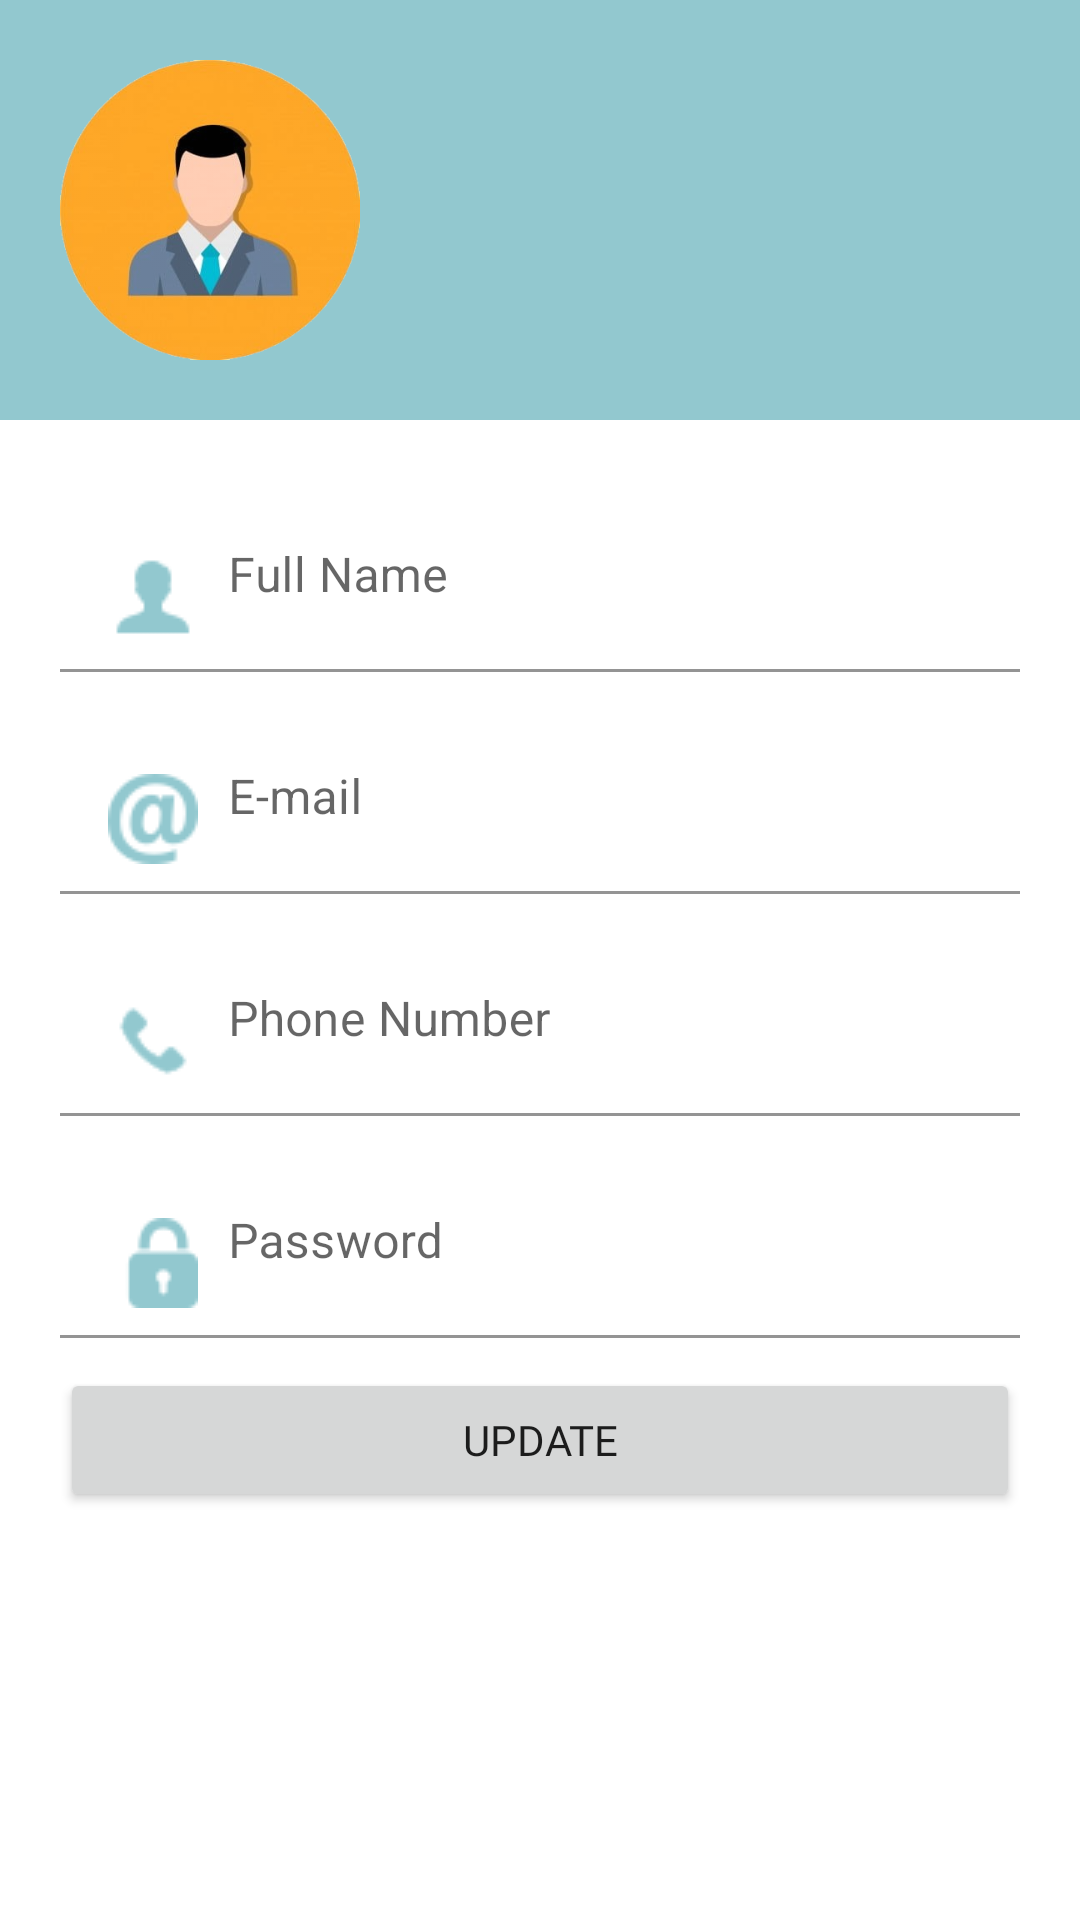

Icons on this 1080 x 1920 Android screen, each with its box as (x1, y1, x2, y2):
myuser: (60, 60, 360, 360)
